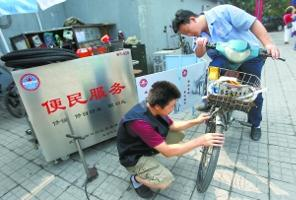person: (116, 81, 225, 199)
